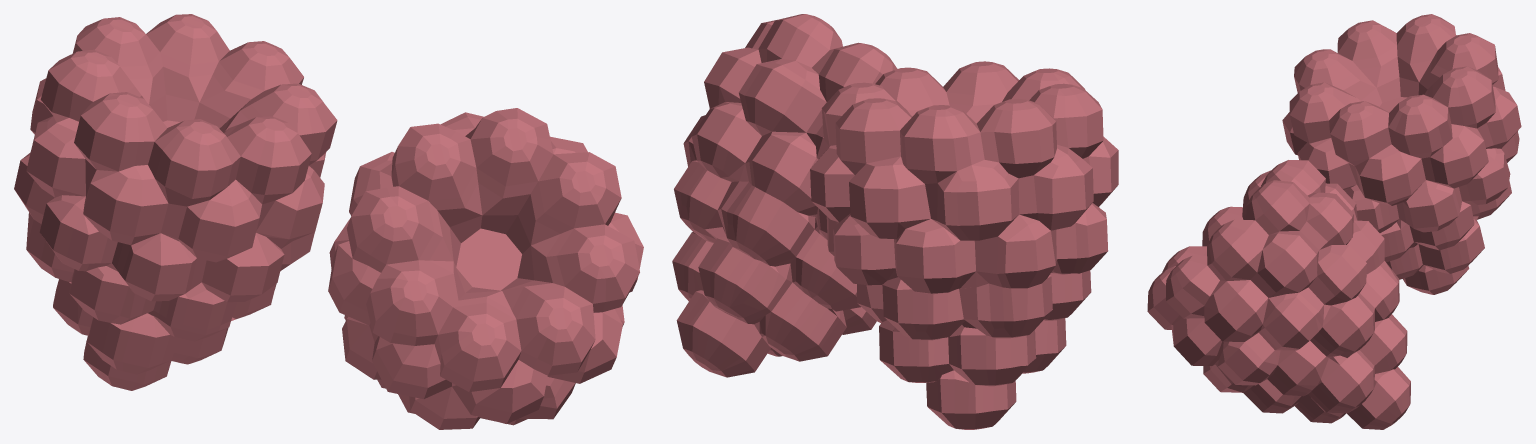
File: wholeRaspberry.fbx
3 renders of one model, left to right at view 1: azimuth 30°, elevation 25°; view 2: azimuth 150°, elevation 25°; view 3: azimuth 270°, elevation 25°, orthographic. The views are drawn at different scales.
Visible parts, largest first — view 1: wholeRaspberry; view 2: wholeRaspberry; view 3: wholeRaspberry.
Part boxes in pixels (box(x1,y1,x2,y2)): wholeRaspberry: box(14, 14, 643, 429); wholeRaspberry: box(672, 14, 1118, 429); wholeRaspberry: box(1147, 14, 1521, 429).
Size of the model in its own units: 3.62 by 2.68 by 3.17.
